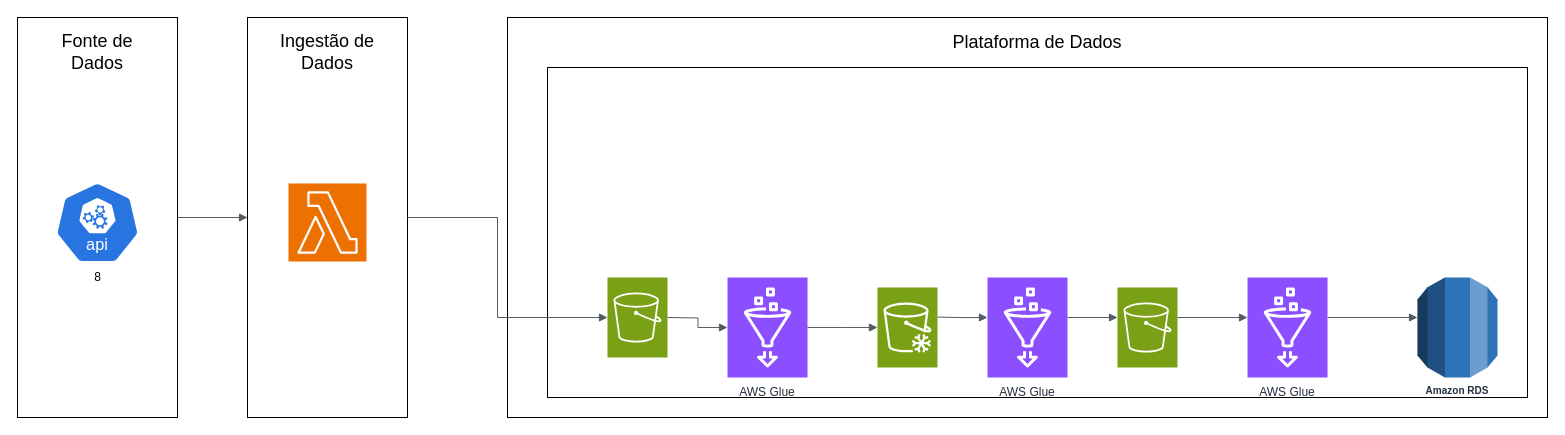
This 1565x435 diagram has some shape labels left out. The shapes that lost their labels are listed below. From the top down, each one's centre as x and y in pixels, then its label:
At point 637,317: "raw".
At point 907,327: "trusted".
At point 1147,327: "refined".
